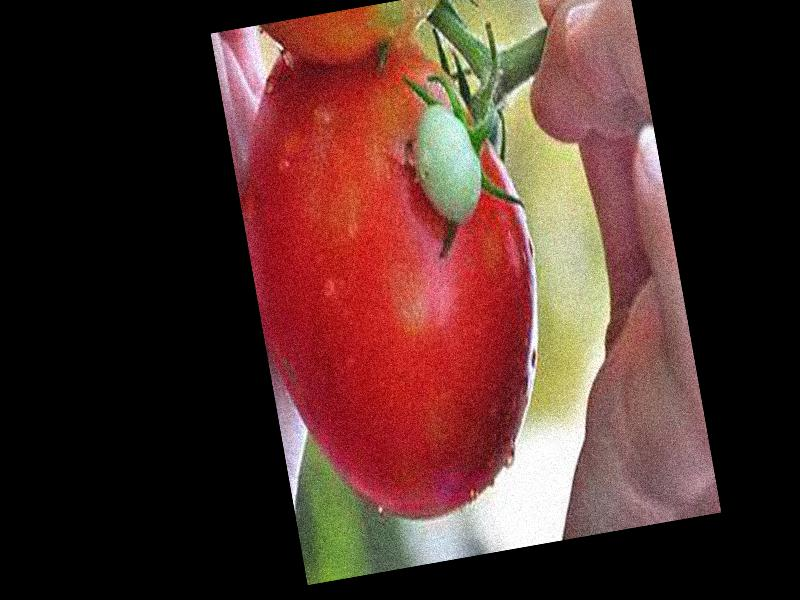Tomato: (216, 18, 575, 540)
